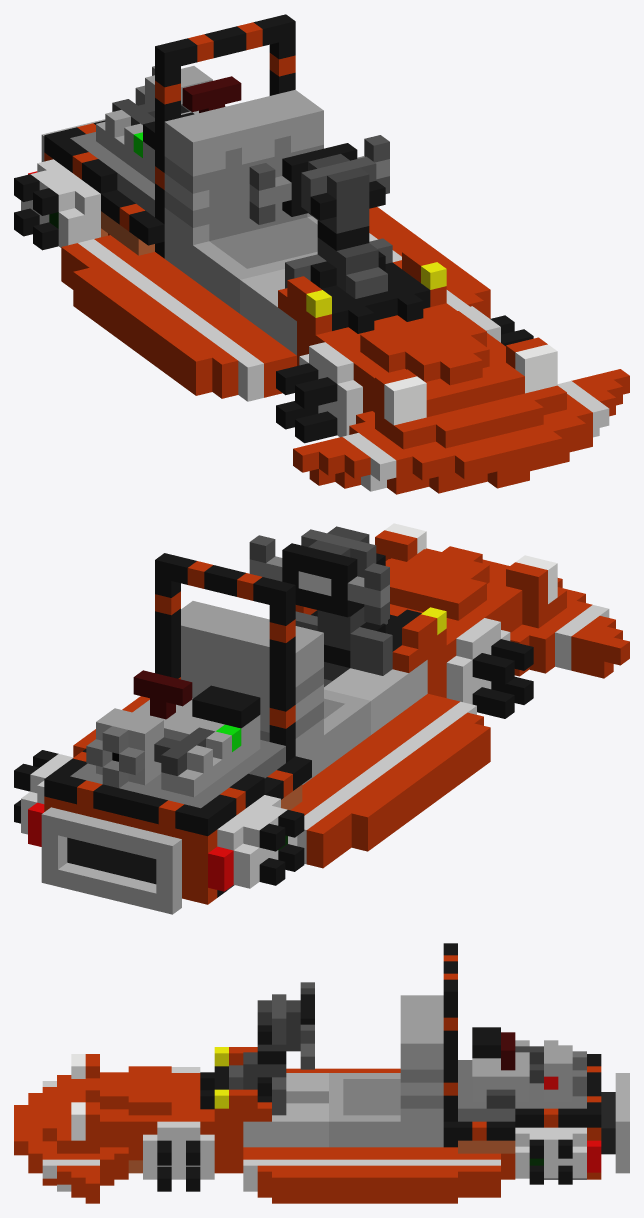
File: Red_Kart_Chassis.obj
3 views of the same model, one above another, from view 1: azimuth 30°, elevation 25°; view 2: azimuth 150°, elevation 25°; view 3: azimuth 270°, elevation 25° (orthographic). The views are drawn at different scales.
Size of the model in its own units: 2 by 1.5 by 4.3.
1 material, 1 textured.
